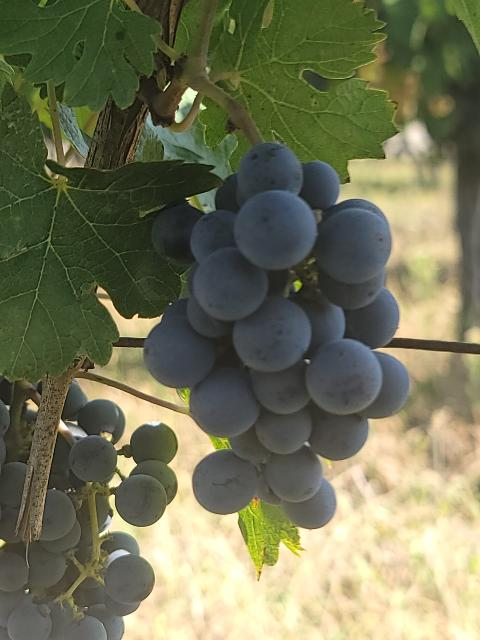grapes: (144, 142, 409, 531), (0, 380, 178, 640)
